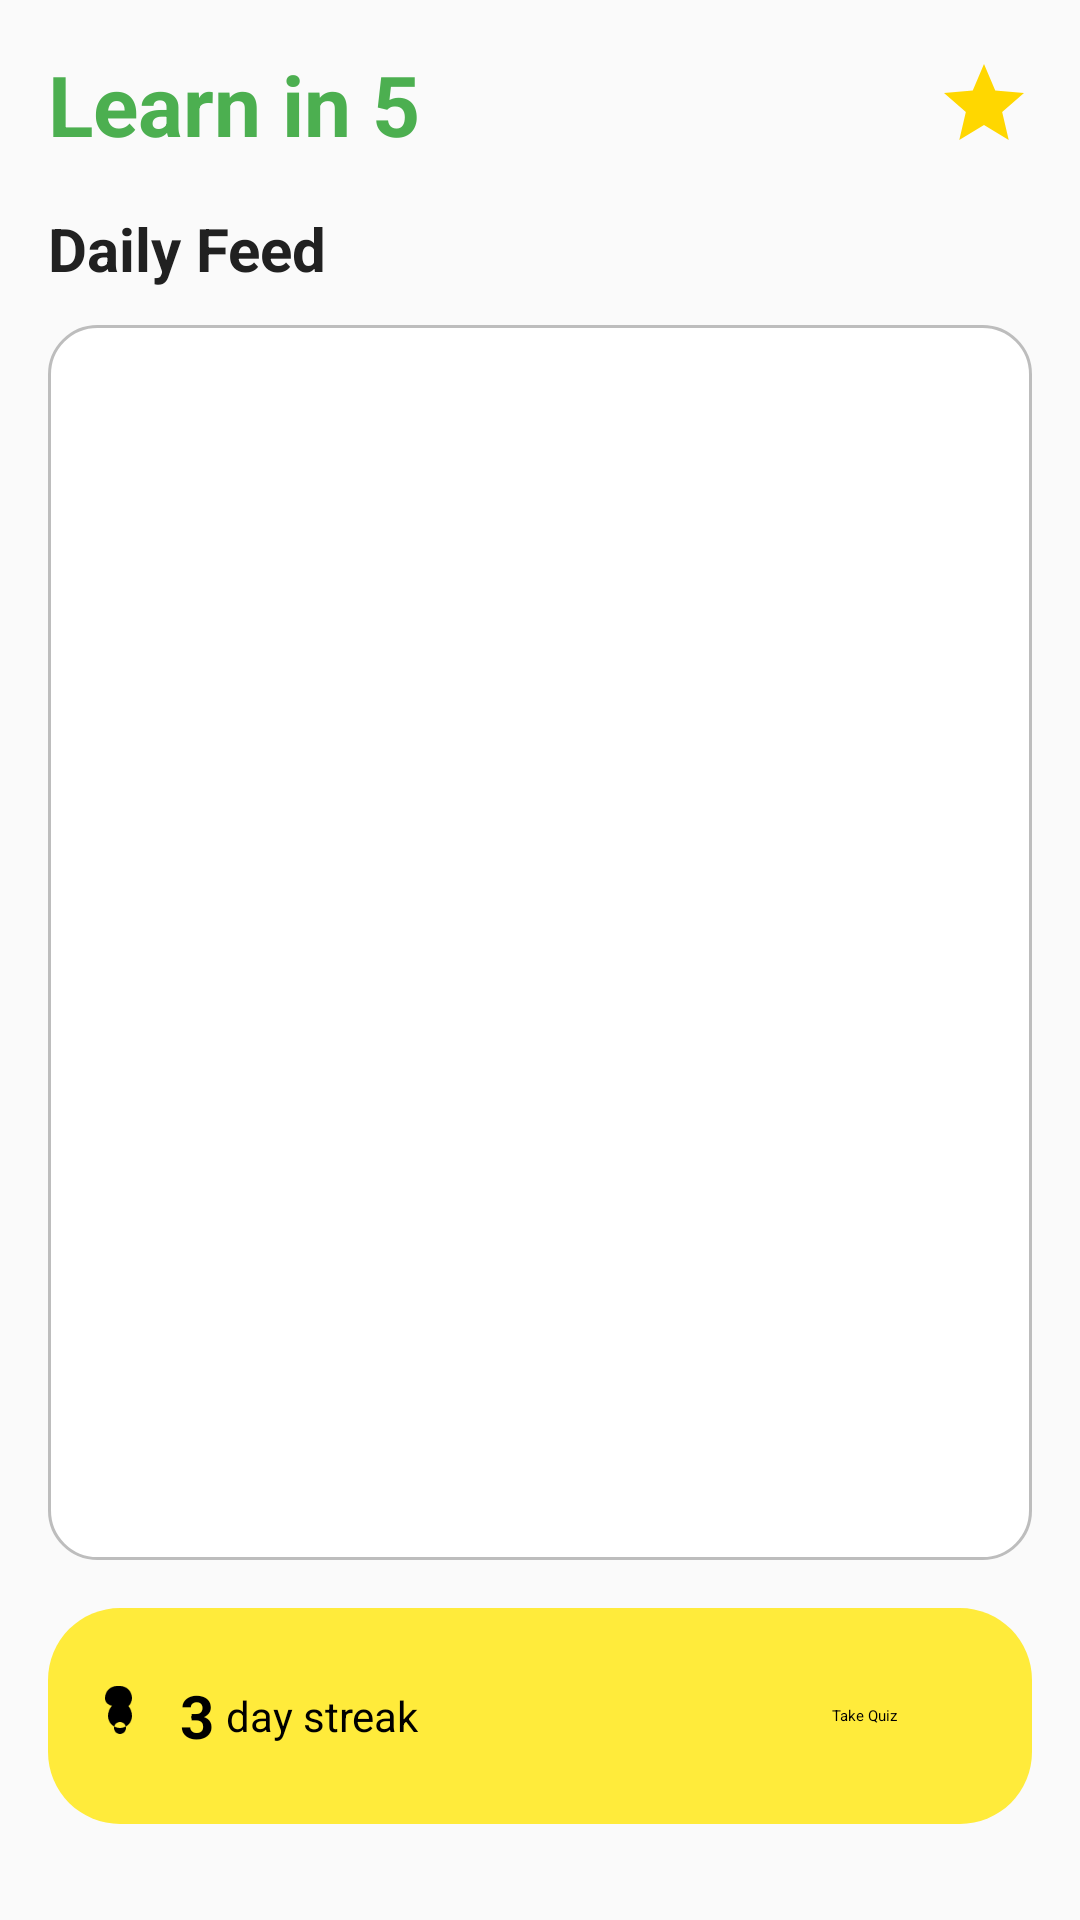

Icon click points for this 1080×1920 phone screenshot, format [x,y]:
star: [984,102]
